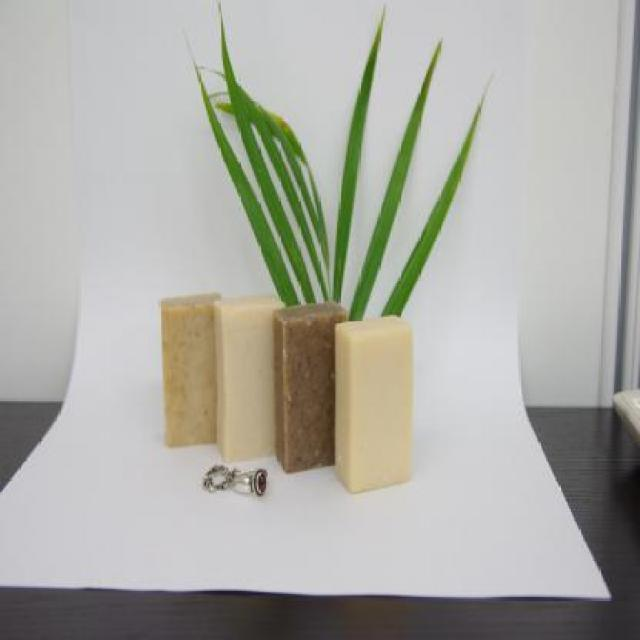Cheese: (334, 318, 416, 504), (272, 293, 348, 472), (217, 292, 286, 462), (158, 289, 224, 448)
